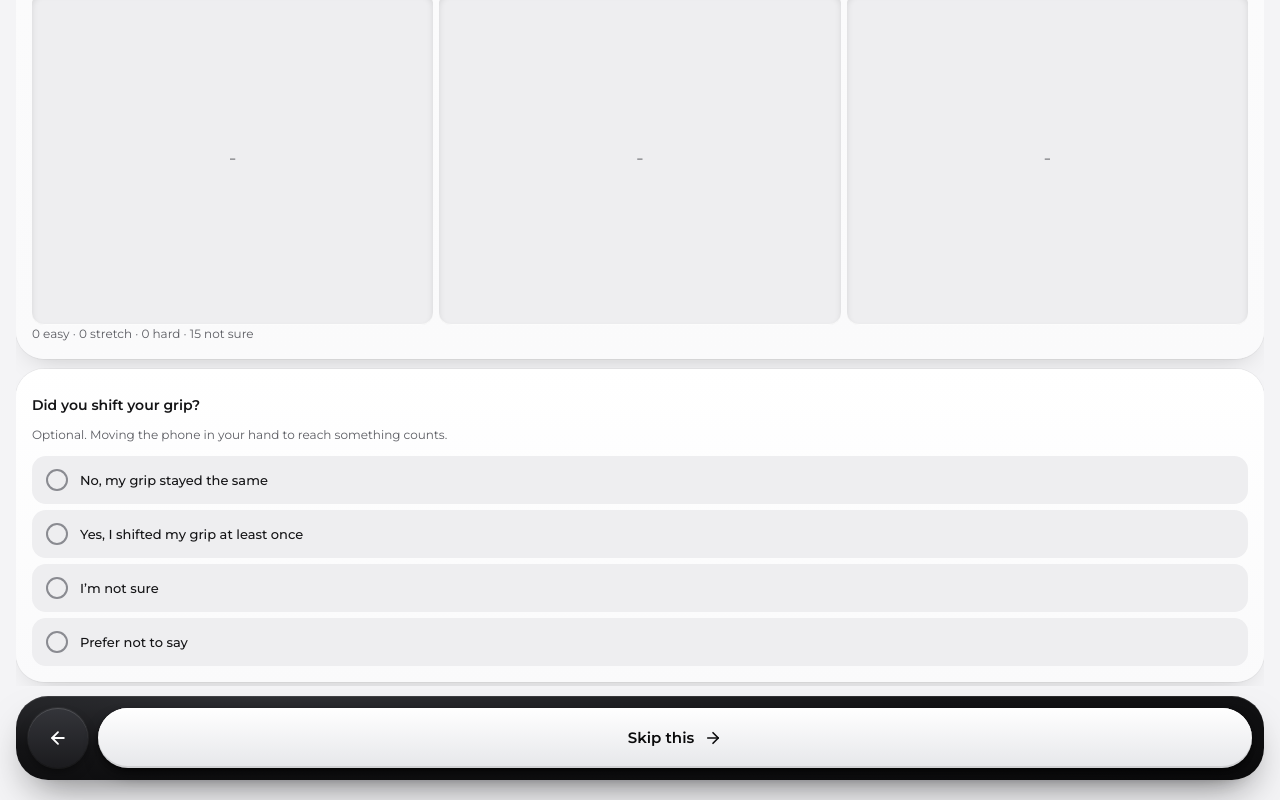
ComfortReport › records the grip answer, and lets it be unset again
Later steps or results of the test are not shown.
(page scrolled)
Click the radio button labelled "Yes, I shifted my grip at least once": coordinates (192, 534) [32,510,1248,558]
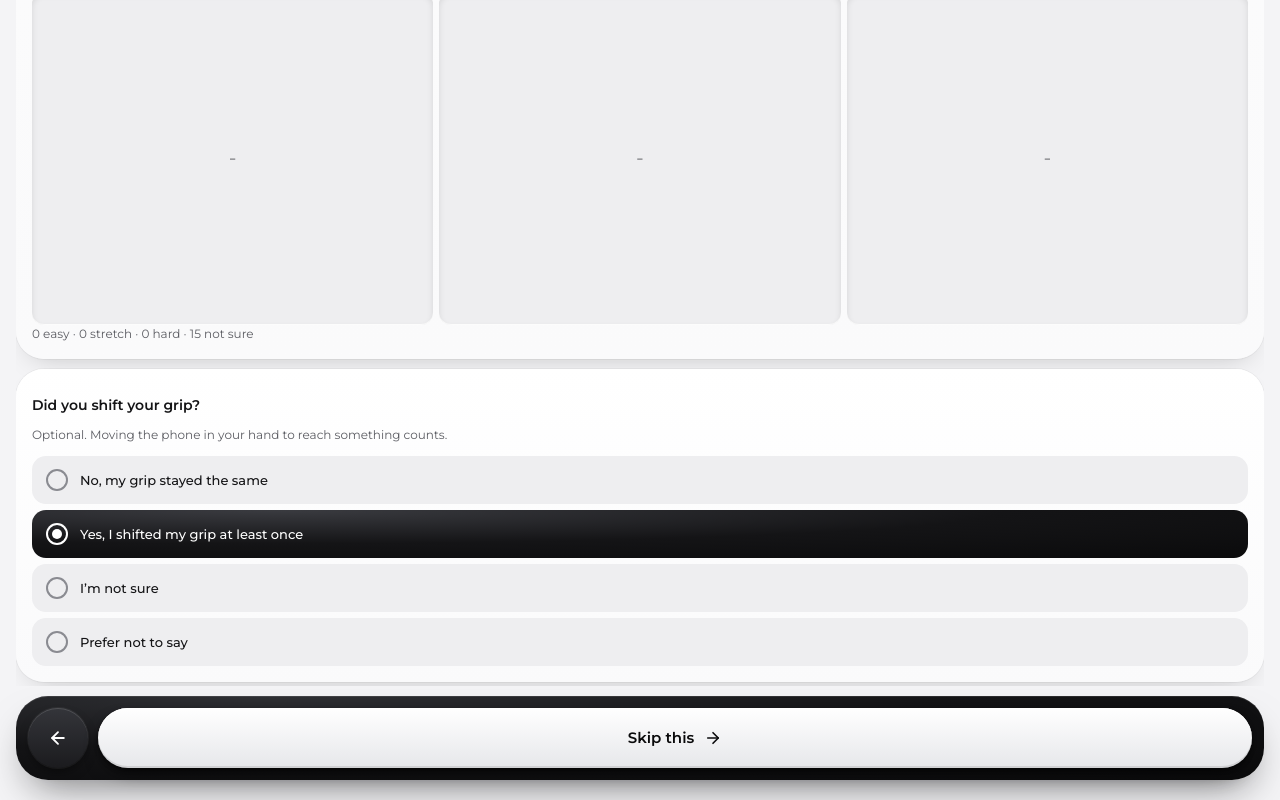
Result: the radio button labelled "Yes, I shifted my grip at least once" is checked
Click the radio button labelled "Yes, I shifted my grip at least once": coordinates (192, 534) [32,510,1248,558]
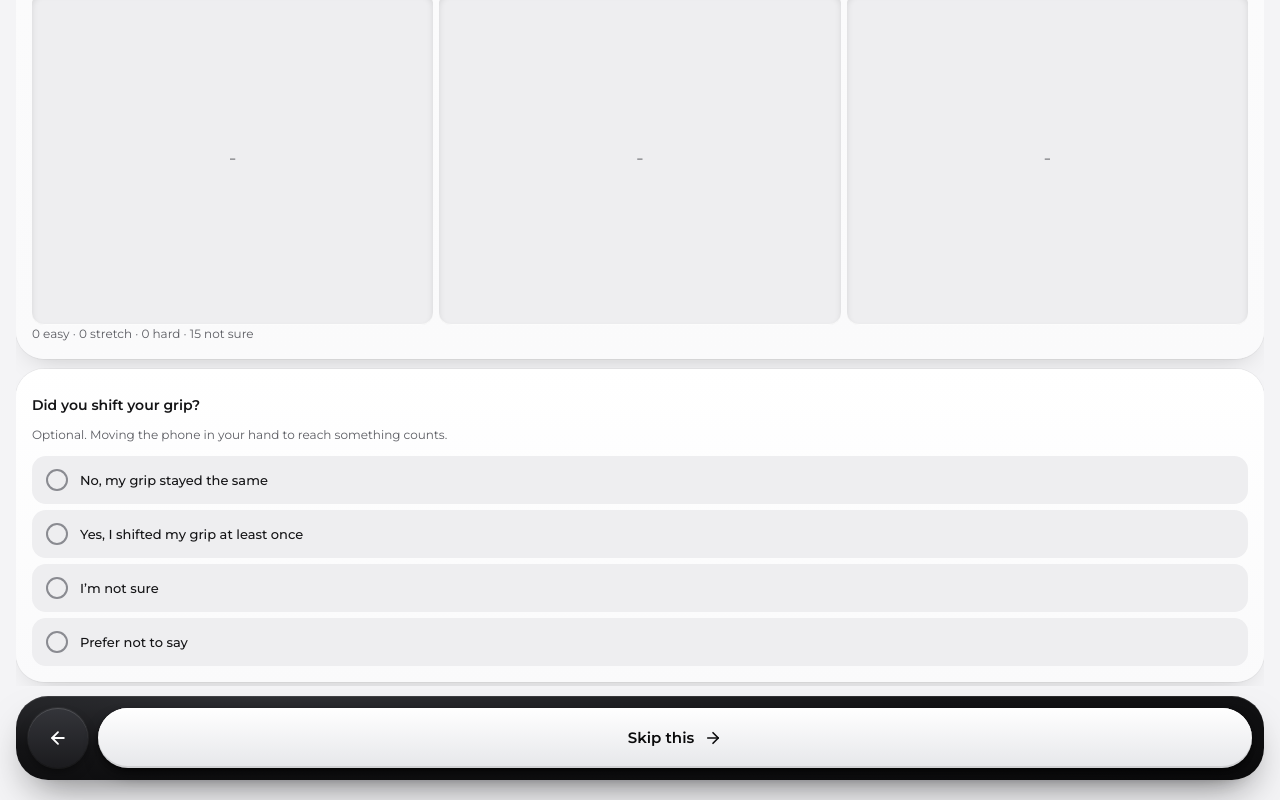
Result: the radio button labelled "Yes, I shifted my grip at least once" is not checked at [32,510,1248,558]
